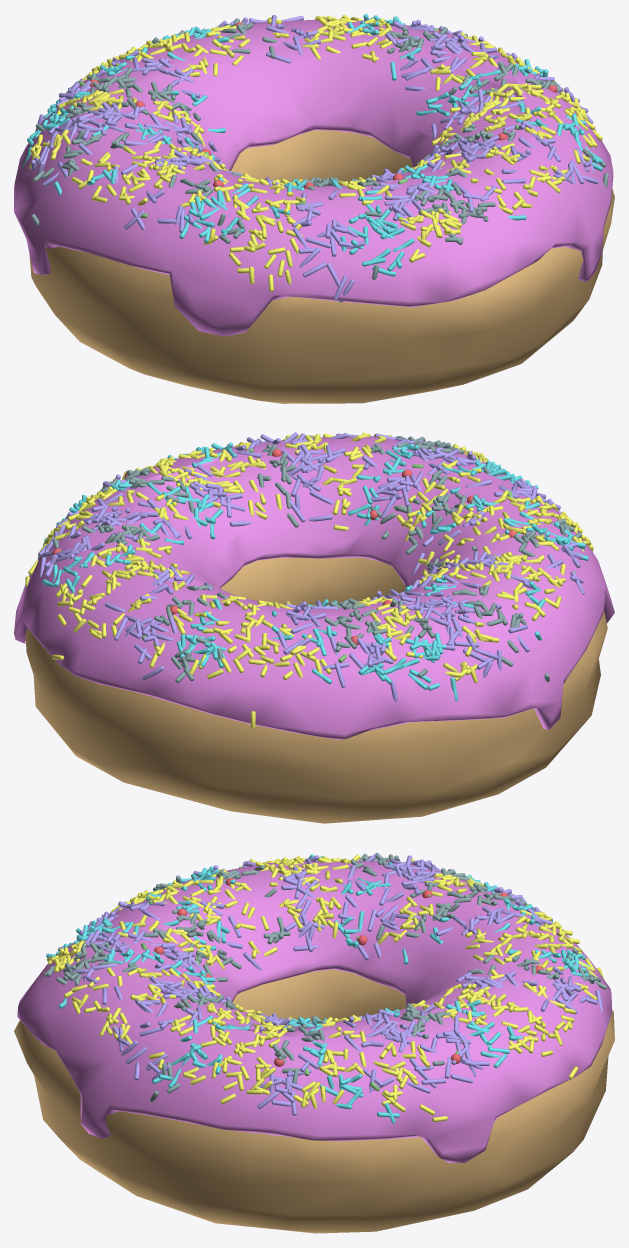
The model's file is VRWB_DecimateDonutChallenge.fbx.
The picture shows the model from 3 angles, top to bottom: view 1: azimuth 30°, elevation 25°; view 2: azimuth 150°, elevation 25°; view 3: azimuth 270°, elevation 25°; orthographic projection. The views are drawn at different scales.
Visible parts, largest first — view 1: Icing_002, RealDonut; view 2: Icing_002, RealDonut; view 3: Icing_002, RealDonut.
Part boxes in pixels (x1,y1,x2,y2): Icing_002: (14,14,613,336); RealDonut: (29,130,614,403); Icing_002: (14,432,614,739); RealDonut: (25,557,607,823); Icing_002: (17,852,611,1162); RealDonut: (14,969,614,1233).
Size of the model in its own units: 14.96 by 5.69 by 15.45.
